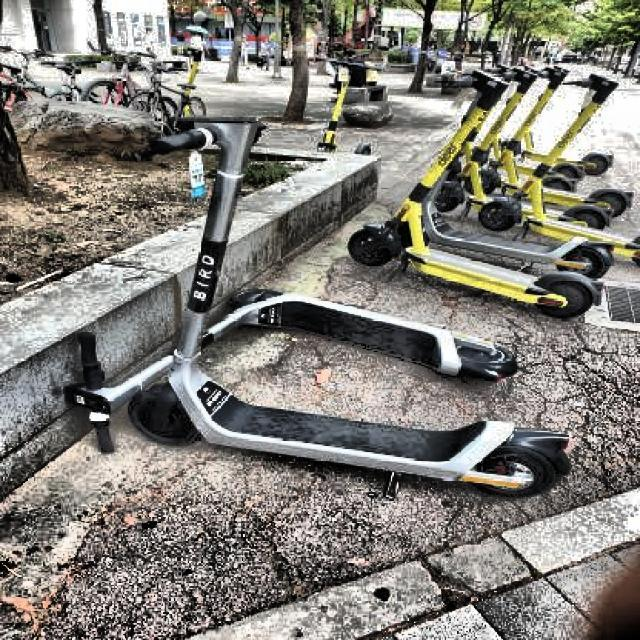bike: (53, 62, 82, 103)
